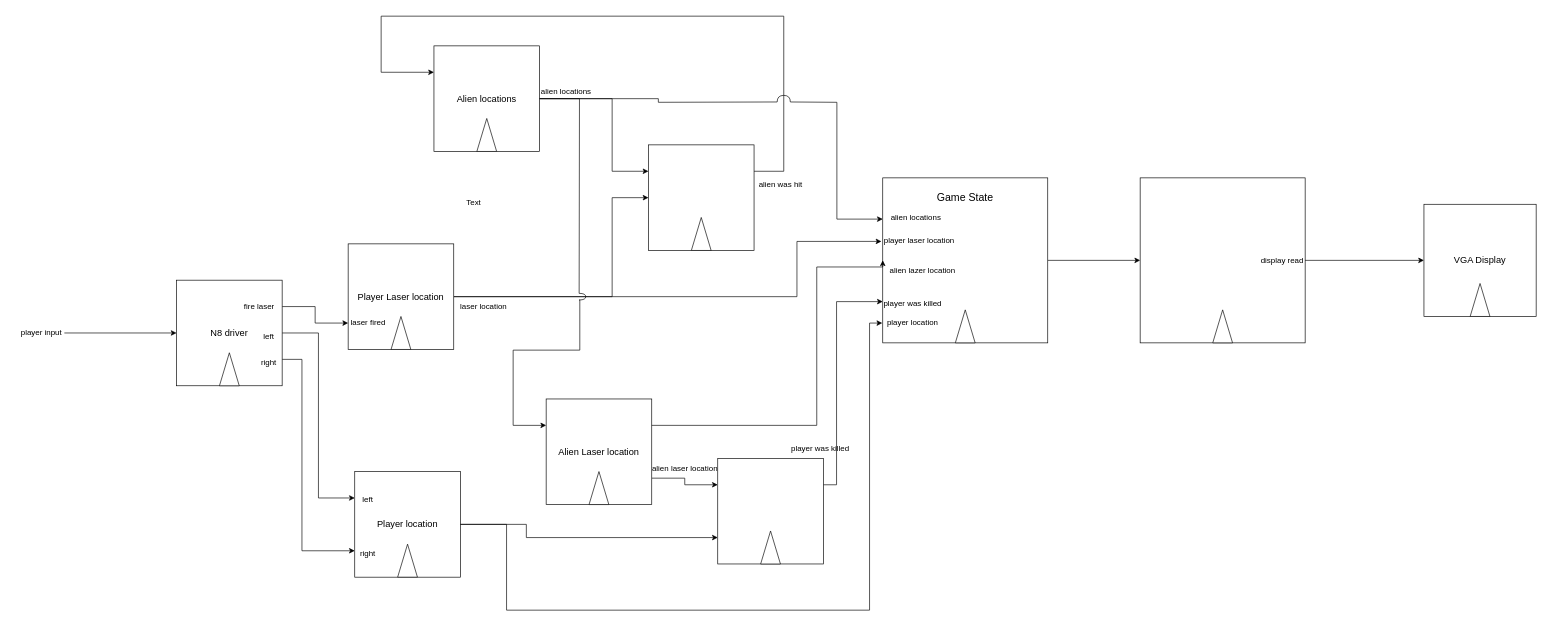
Some shapes in this 1548 by 627 pixel diagram are drawn without their labels. The box of each missing label's shape, as (x1, y1, x2, y2) in pixels:
Alien hit: (648, 144, 754, 250)
player hit: (717, 458, 823, 564)
RAM: (1139, 177, 1305, 343)
